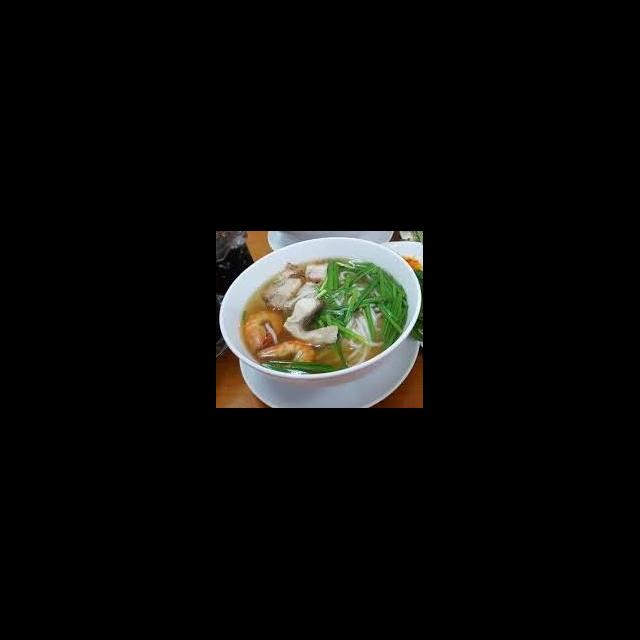bun: (330, 284, 384, 372)
ca: (280, 294, 342, 349)
thit heo quay: (260, 258, 306, 304), (268, 272, 308, 312)
tom: (252, 336, 320, 374), (242, 306, 288, 356)
